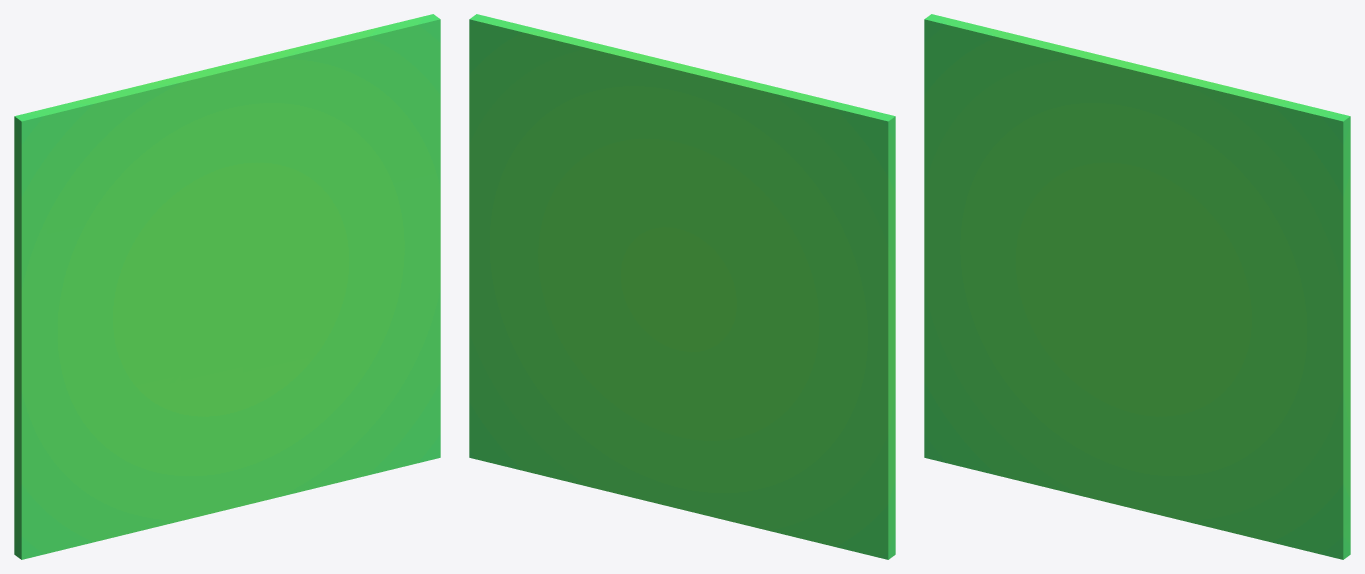
The model's file is Eclipse_DISP_Ti-6Al-4V_3mm.gltf.
The picture shows the model from 3 angles, left to right: view 1: azimuth 30°, elevation 25°; view 2: azimuth 150°, elevation 25°; view 3: azimuth 330°, elevation 25°; orthographic projection.
Visible parts, largest first — view 1: Renderer Node; view 2: Renderer Node; view 3: Renderer Node.
Part boxes in pixels (x1,y1,x2,y2): Renderer Node: [14, 14, 440, 559]; Renderer Node: [469, 14, 895, 559]; Renderer Node: [924, 14, 1350, 559].
Size of the model in its own units: 94.49 by 94.49 by 2.86.
1 material, 1 textured.
